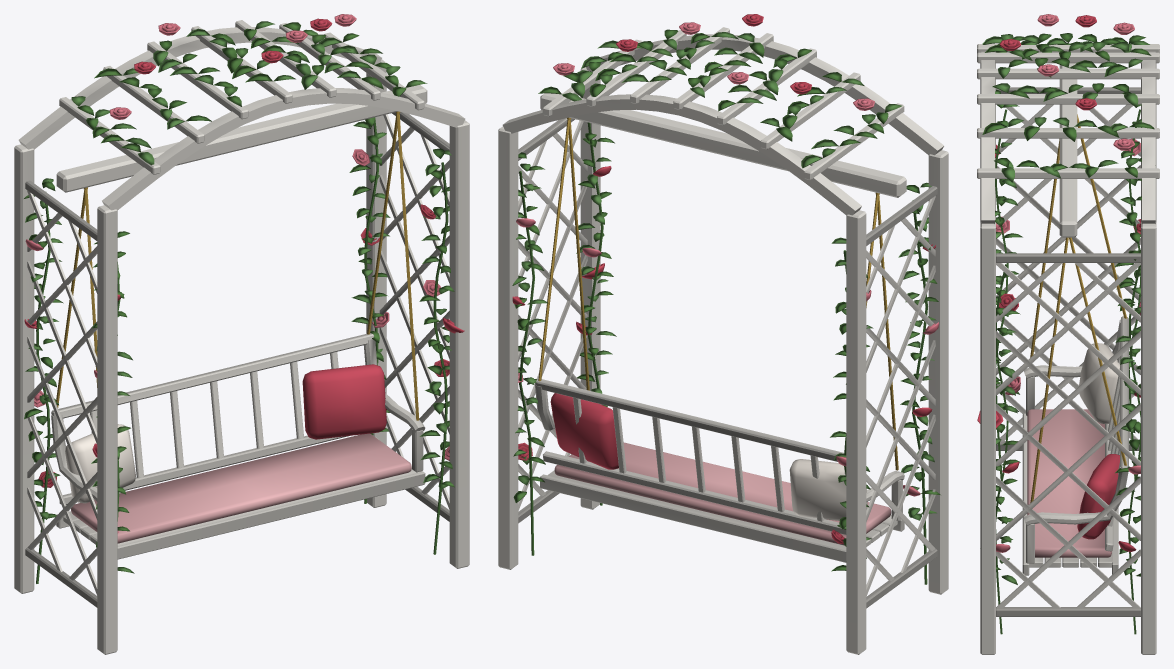
Rendered from roseArbourSwing.glb.
3 renders of one model, left to right at view 1: azimuth 30°, elevation 25°; view 2: azimuth 150°, elevation 25°; view 3: azimuth 270°, elevation 25°, orthographic. The views are drawn at different scales.
Visible parts, largest first — view 1: body, swing; view 2: body, swing; view 3: body, swing.
Boxes of the visible parts, <box> form: body: <box>14,14,469,654</box>; swing: <box>51,113,425,559</box>; body: <box>498,14,948,654</box>; swing: <box>535,119,904,562</box>; body: <box>977,14,1159,654</box>; swing: <box>1022,114,1128,575</box>.
Bounding box in the file's own units: 1.83 × 2.61 × 0.82.
